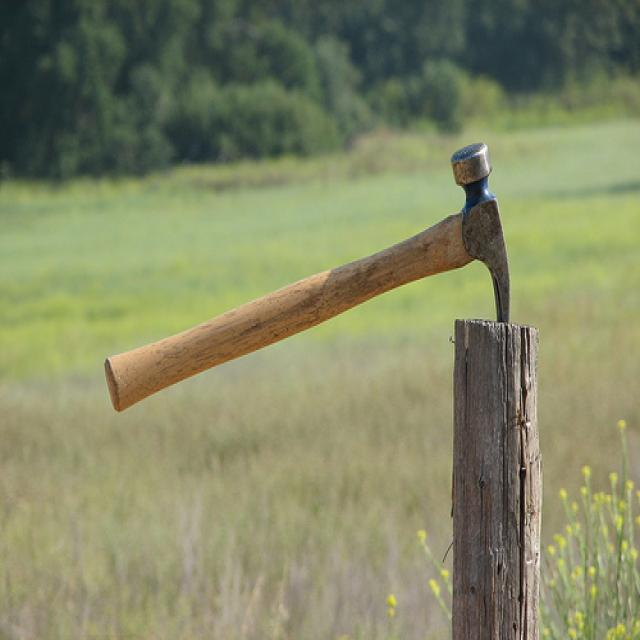hammer: (50, 104, 548, 396)
